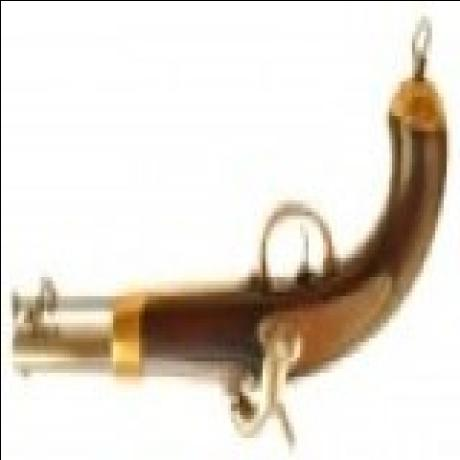weapon: (0, 72, 453, 452)
